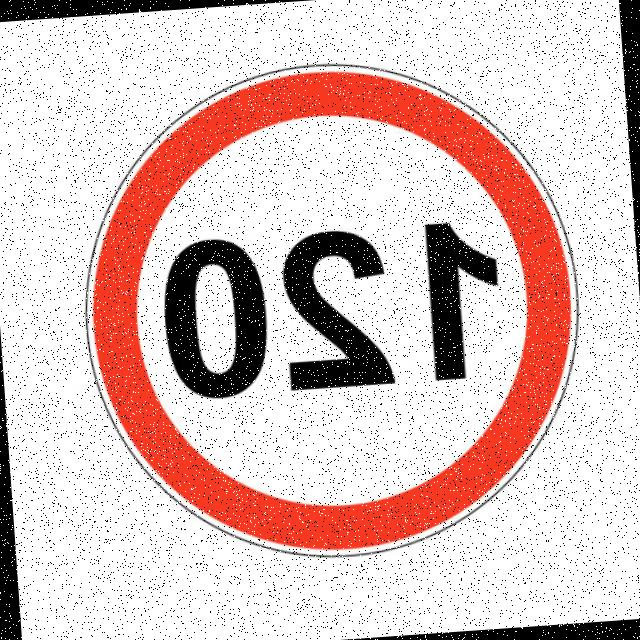speed_limit_120: (65, 45, 596, 578)
